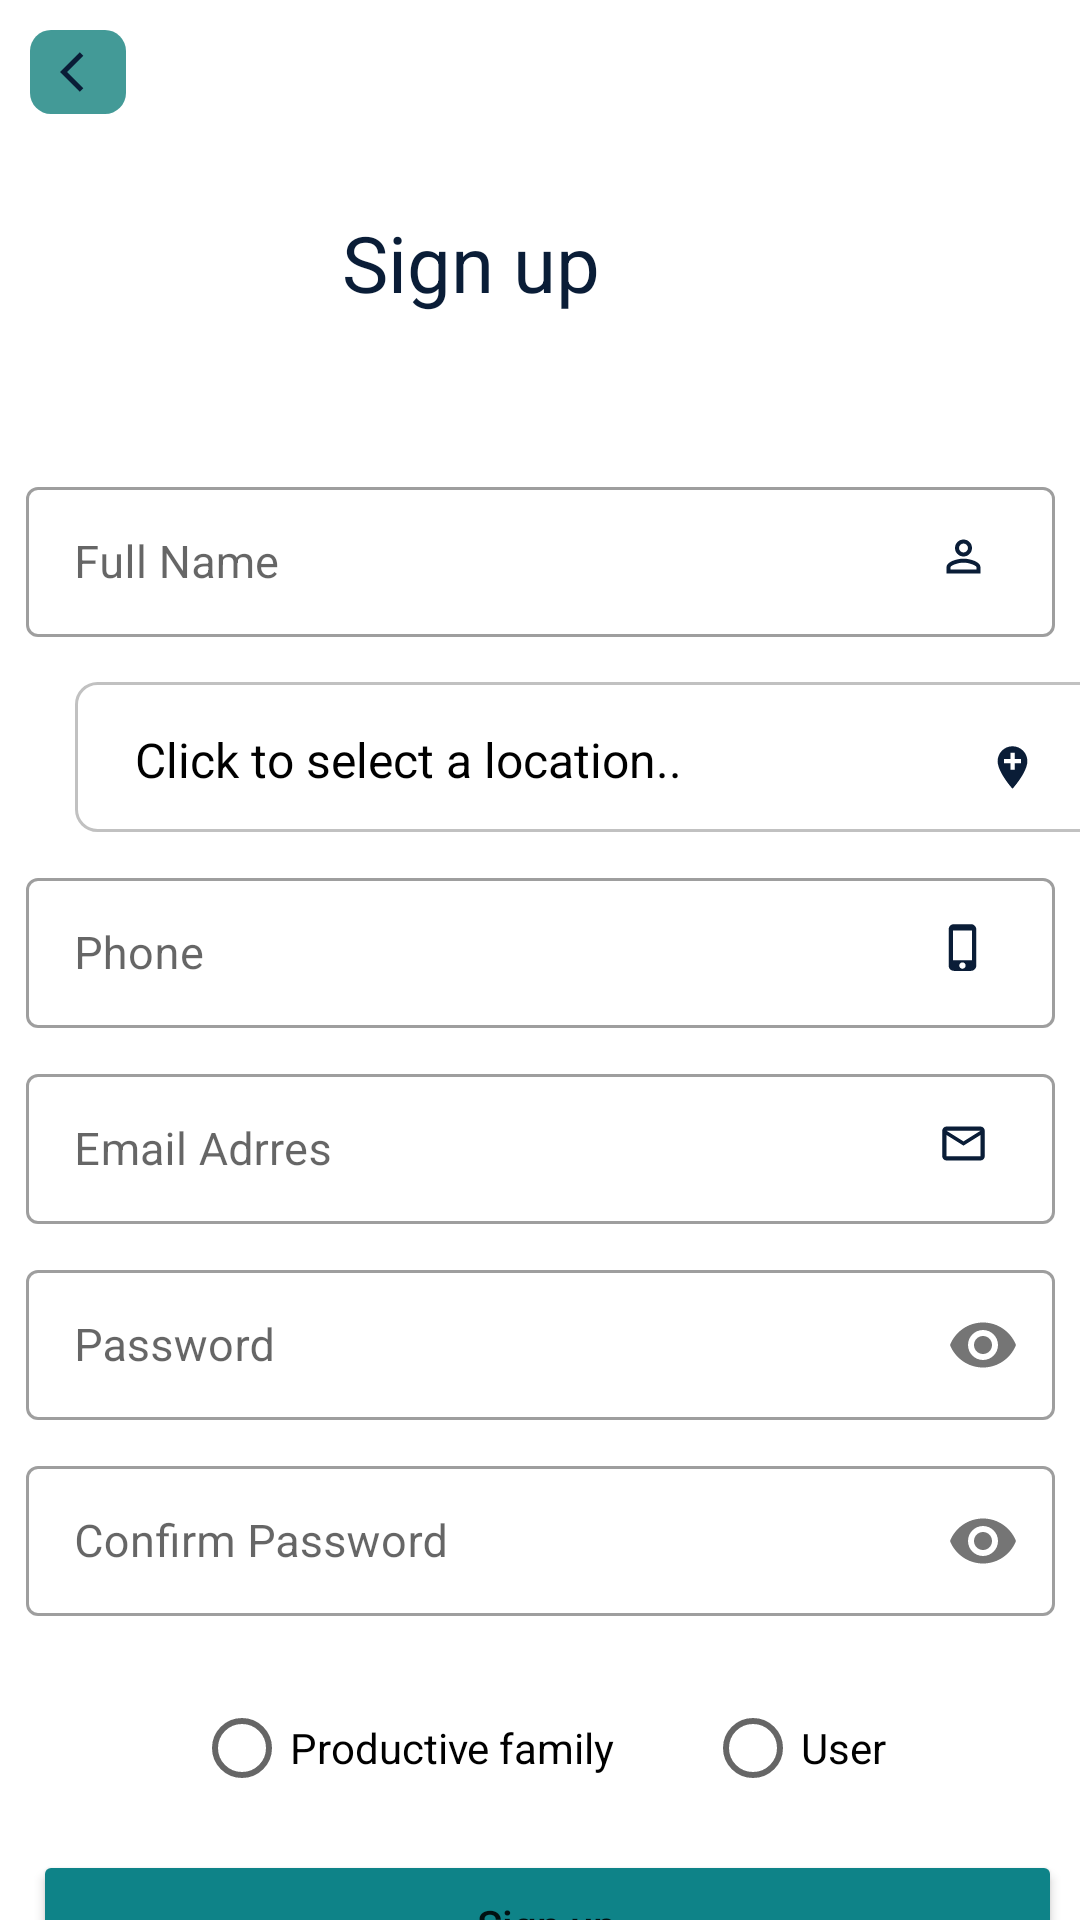

Icons on this 1080*1920 Android screen, each with the point to tap as point (x, y):
add location: point (1012, 767)
arrow back: point (71, 72)
perm identity: point (963, 556)
